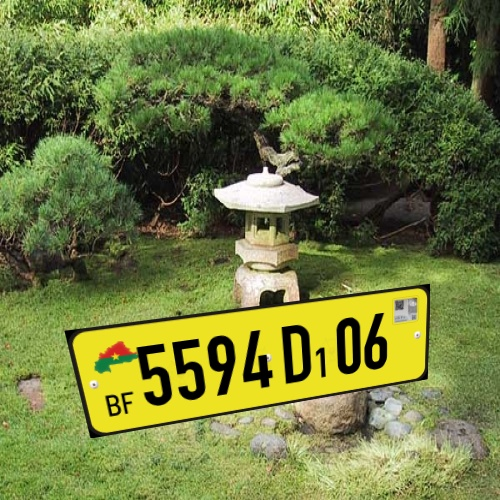plate: (48, 277, 441, 445)
